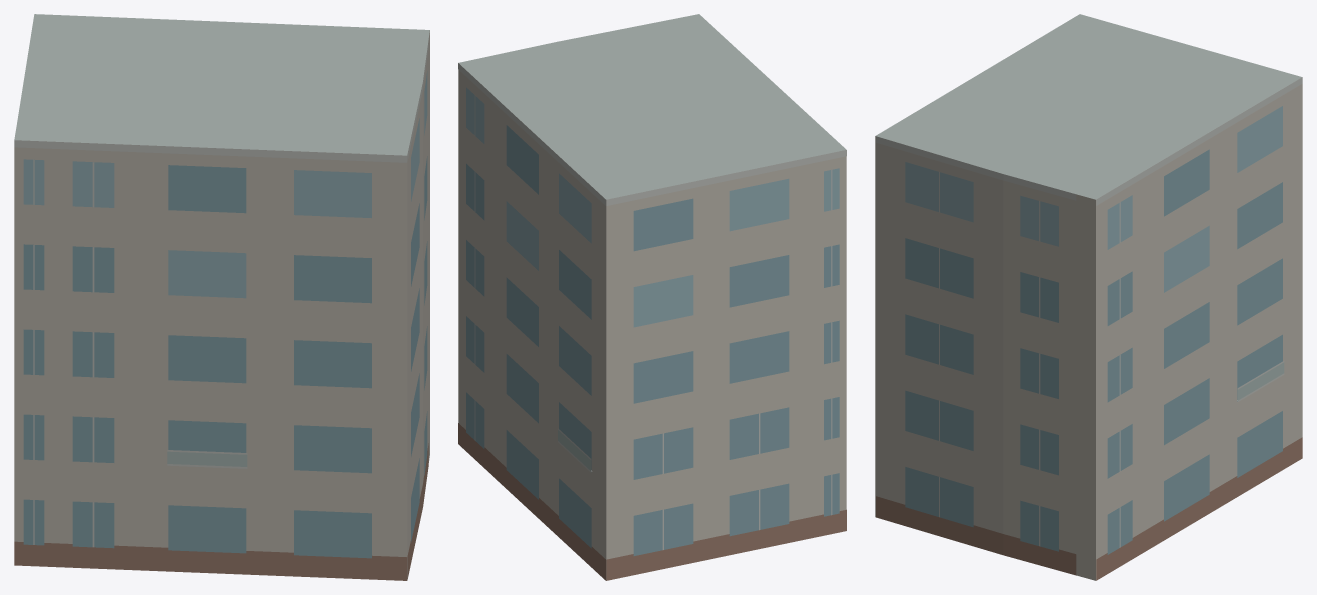
File: survey-upis-32771728.glb
The picture shows the model from 3 angles, left to right: view 1: azimuth 30°, elevation 25°; view 2: azimuth 150°, elevation 25°; view 3: azimuth 270°, elevation 25°; orthographic projection. The views are drawn at different scales.
Visible parts, largest first — view 1: survey-upis-32771728.tmp; view 2: survey-upis-32771728.tmp; view 3: survey-upis-32771728.tmp.
Part boxes in pixels (x1=…): survey-upis-32771728.tmp: x1=14, y1=14, x2=429, y2=580; survey-upis-32771728.tmp: x1=458, y1=14, x2=846, y2=580; survey-upis-32771728.tmp: x1=875, y1=14, x2=1302, y2=580.
Size of the model in its own units: 15.11 by 14.45 by 14.69.
